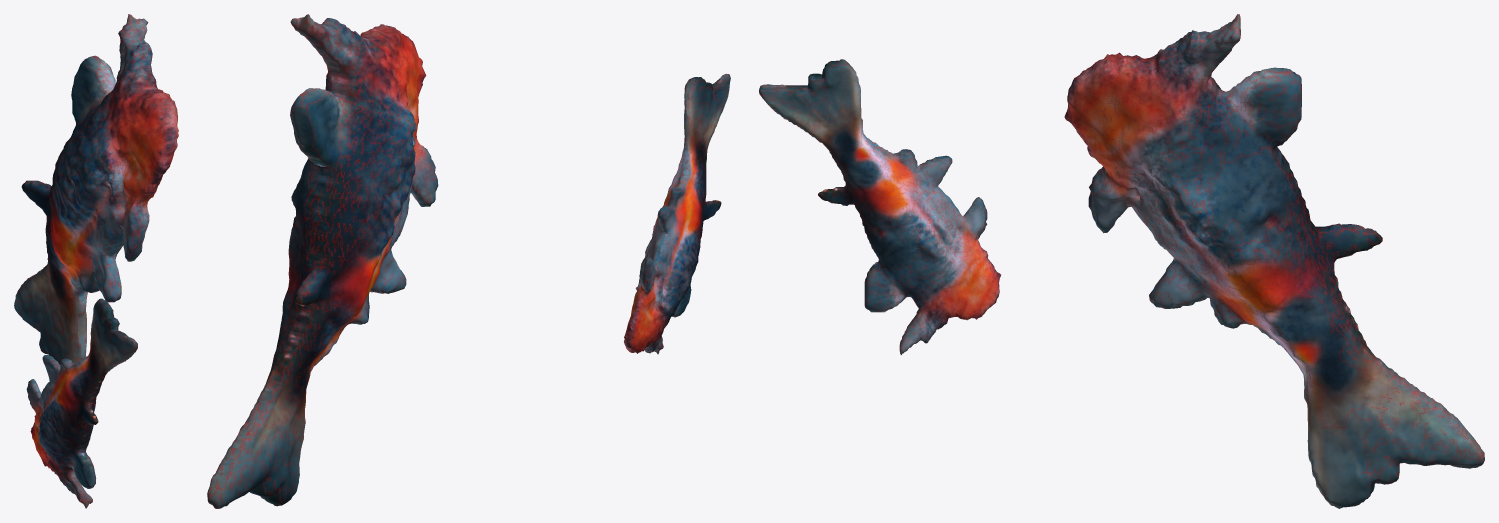
The model's file is fish_1.glb.
3 renders of one model, left to right at view 1: azimuth 30°, elevation 25°; view 2: azimuth 150°, elevation 25°; view 3: azimuth 270°, elevation 25°, orthographic. The views are drawn at different scales.
Visible parts, largest first — view 1: model.005, model.001; view 2: model.005, model.001; view 3: model.005, model.001.
Boxes of the visible parts, x1,y1,x2,y2 form: model.005: (14,14,178,364); model.001: (26,298,137,508); model.005: (207,14,438,508); model.001: (624,73,730,354); model.005: (1064,14,1484,508); model.001: (759,59,1000,354).
Bounding box in the file's own units: 0.4299 × 0.7211 × 0.9423.
2 materials, 2 textured.
